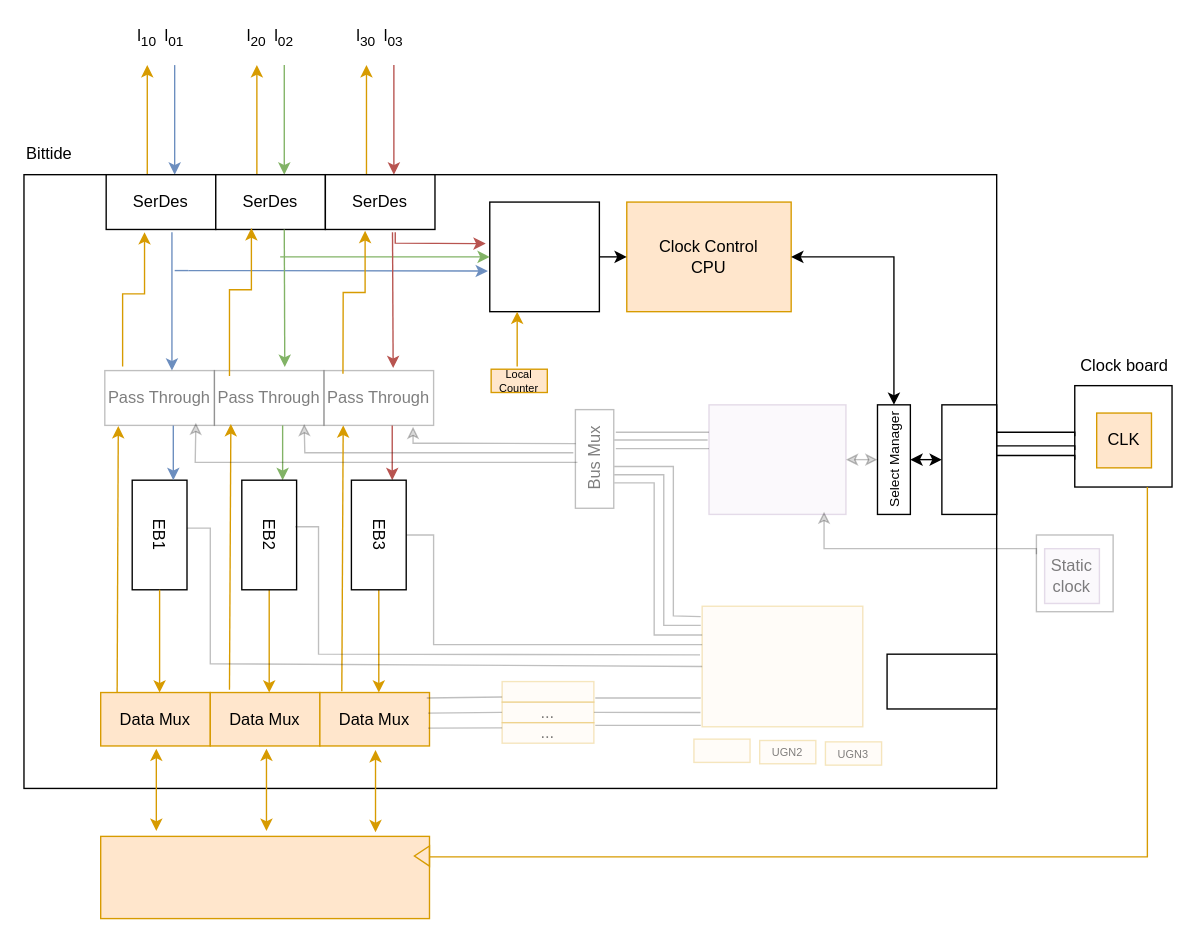
The diagram is 1200 pixels wide and 943 high, and some of its shapes have lost their labels. Each missing label, with the box of its shape:
Boot CPU: (708, 403, 846, 514)
DDCs: (488, 201, 599, 312)
JTAG (to all CPUs): (886, 653, 997, 709)
Management Unit CPU: (701, 605, 863, 727)
Processing Element: (99, 835, 429, 919)
RingBuffer (s): (501, 680, 594, 702)
SPI: (941, 403, 997, 514)
UGN1: (693, 738, 750, 762)
